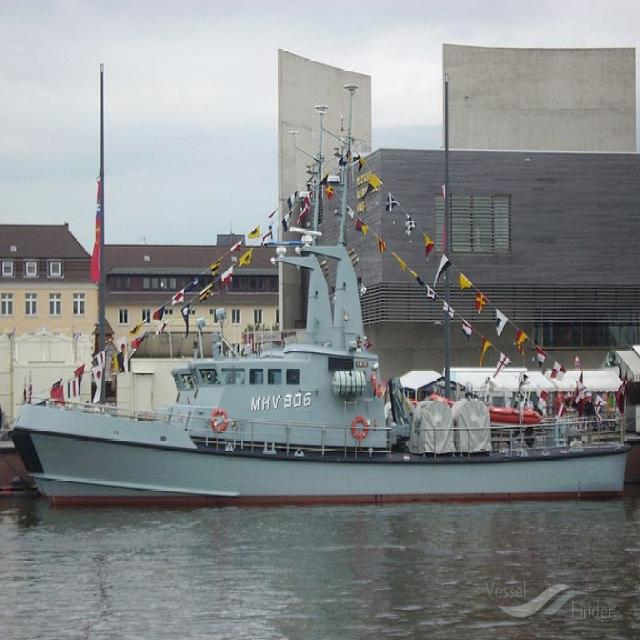OCR: (250, 392, 316, 420)
